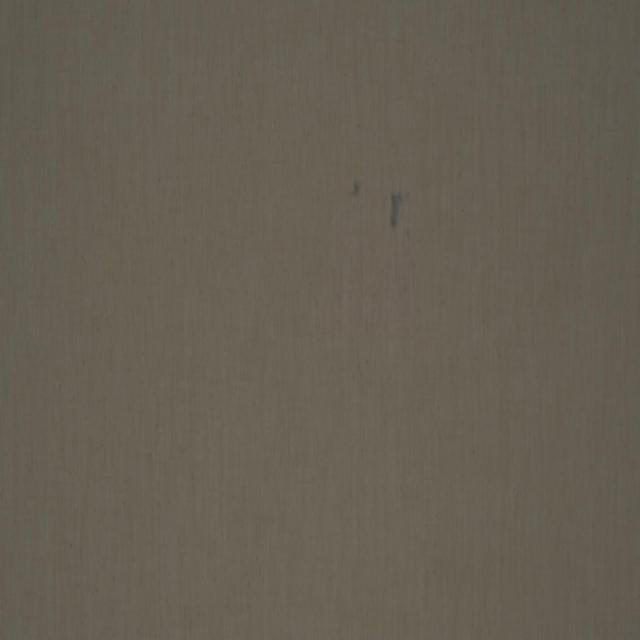dirty: (390, 192, 399, 230), (350, 180, 360, 196)
